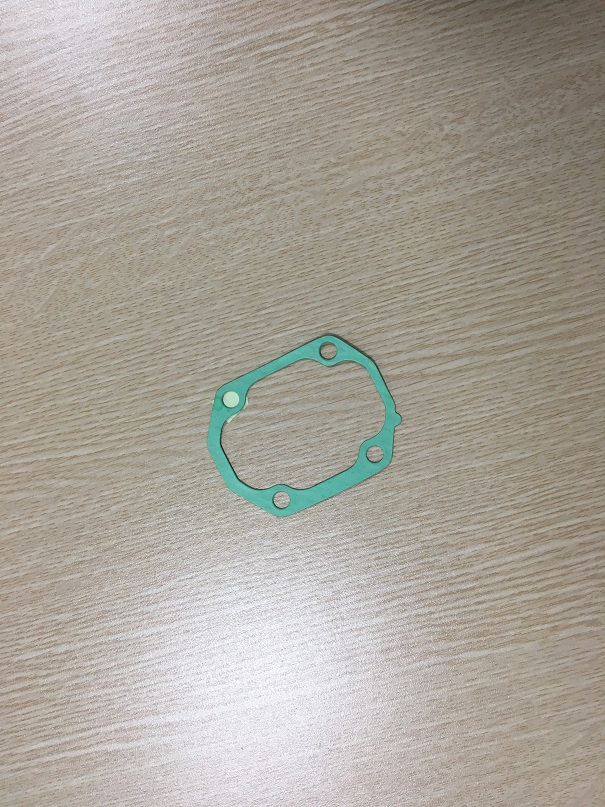type2: (199, 325, 419, 522)
